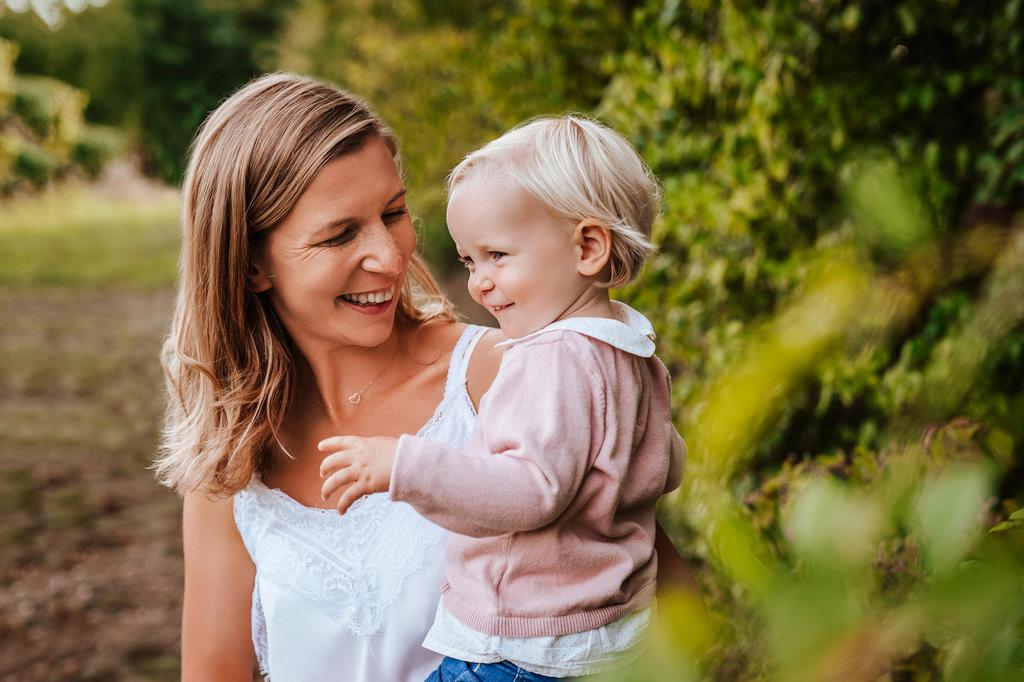child: (403, 113, 701, 682)
